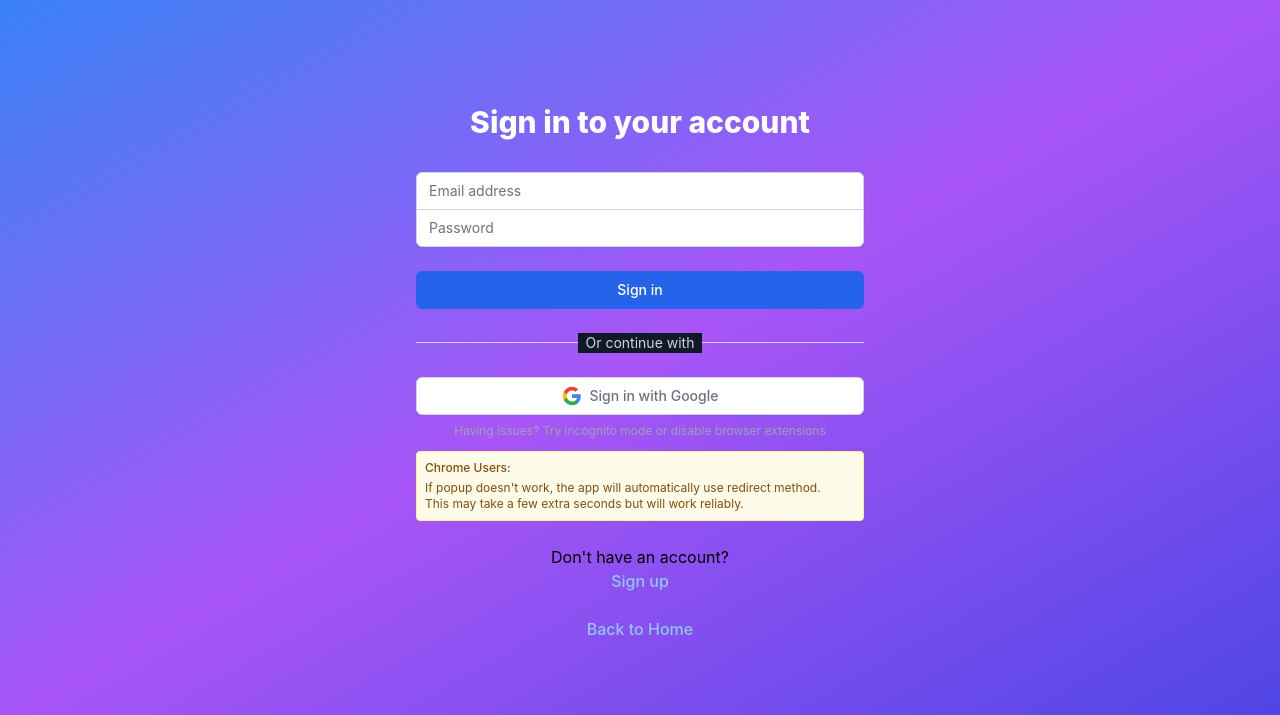
Scenario: Login Page › Google Authentication › handles Google authentication errors
The image size is (1280, 715).
Click the button "Sign in with Google". click: (640,396)
box: [416,376,864,414]
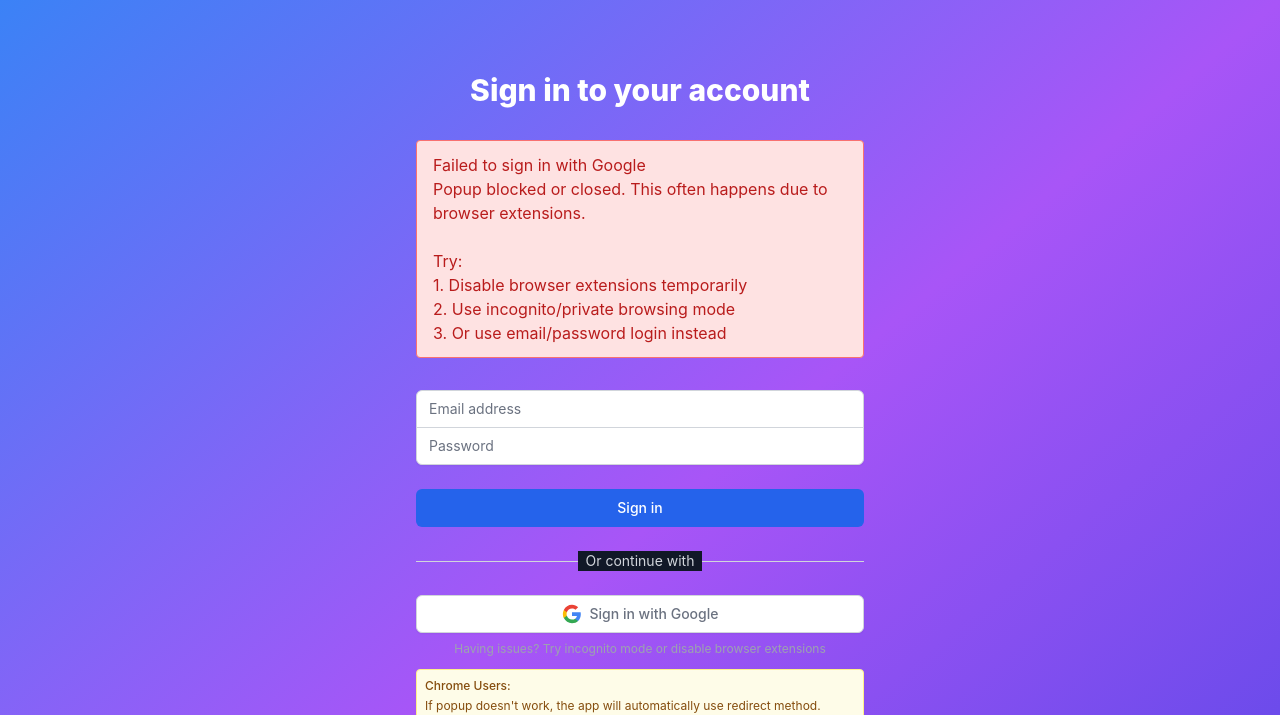
Result: the text "Failed to sign in with Google" is shown at [433,155,646,175]
